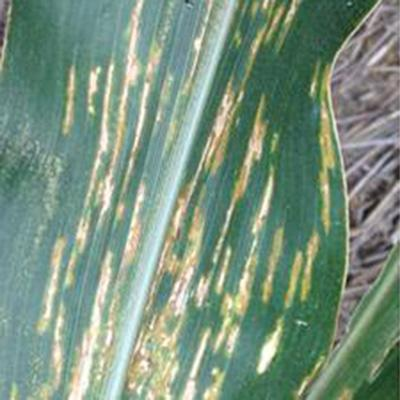Corn_Blight: (41, 8, 355, 395)
